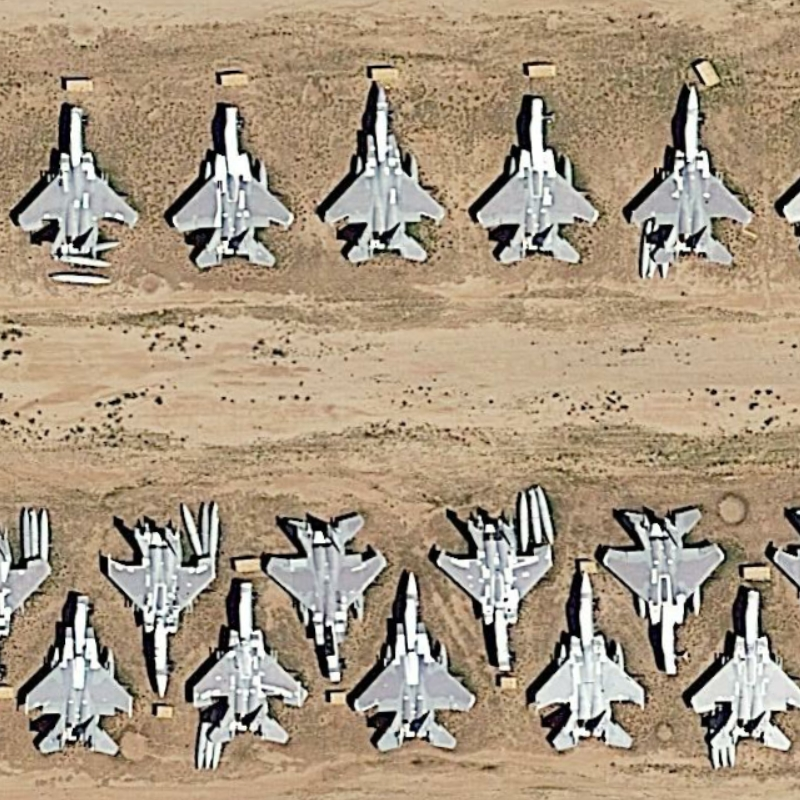A13: (617, 72, 759, 275), (349, 555, 487, 759), (316, 76, 452, 270), (93, 509, 230, 698), (594, 487, 731, 676), (521, 565, 659, 751), (161, 94, 299, 275), (256, 505, 392, 683), (424, 502, 558, 679), (5, 99, 143, 270), (473, 84, 599, 269), (186, 569, 312, 750), (15, 580, 140, 761), (683, 575, 800, 754)
